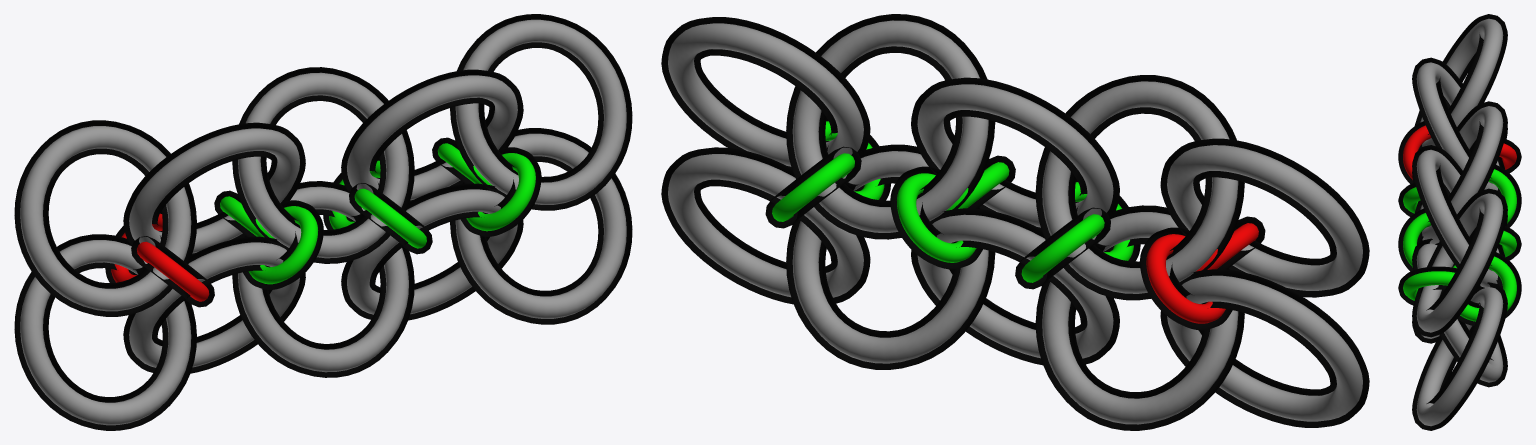
The model's file is magus_weave_step_06.glb.
3 views of the same model, side by side, from view 1: azimuth 30°, elevation 25°; view 2: azimuth 150°, elevation 25°; view 3: azimuth 270°, elevation 25° (orthographic). The views are drawn at different scales.
Parts seen in each view (by area): view 1: Torus.725, Torus.721, Torus.730, Torus.723, Torus.726, Torus.728, Torus.722, Torus.724, Torus.727, Torus.729, Torus.763, Torus.747 (+6 smaller); view 2: Torus.722, Torus.724, Torus.721, Torus.725, Torus.730, Torus.727, Torus.729, Torus.726, Torus.723, Torus.728, Torus.754, Torus.770 (+6 smaller); view 3: Torus.726, Torus.721, Torus.725, Torus.722, Torus.723, Torus.724, Torus.727, Torus.746, Torus.747, Torus.755, Torus.771, Torus.762 (+4 smaller).
Part boxes in pixels (bbox=[...]): Torus.725: bbox=[14, 120, 196, 316]; Torus.721: bbox=[450, 14, 632, 210]; Torus.730: bbox=[14, 234, 196, 430]; Torus.723: bbox=[232, 67, 414, 263]; Torus.726: bbox=[450, 128, 632, 324]; Torus.728: bbox=[232, 181, 414, 377]; Torus.722: bbox=[341, 69, 523, 201]; Torus.724: bbox=[123, 122, 305, 254]; Torus.727: bbox=[341, 183, 523, 320]; Torus.729: bbox=[123, 236, 305, 373]; Torus.763: bbox=[243, 200, 323, 289]; Torus.747: bbox=[460, 147, 541, 236]; Torus.722: bbox=[786, 14, 995, 239]; Torus.724: bbox=[1035, 75, 1244, 300]; Torus.721: bbox=[661, 17, 870, 167]; Torus.725: bbox=[1160, 138, 1369, 297]; Torus.730: bbox=[1160, 269, 1369, 427]; Torus.727: bbox=[786, 144, 995, 369]; Torus.729: bbox=[1035, 205, 1244, 430]; Torus.726: bbox=[661, 147, 870, 304]; Torus.723: bbox=[911, 77, 1119, 228]; Torus.728: bbox=[911, 208, 1119, 365]; Torus.754: bbox=[890, 166, 982, 269]; Torus.770: bbox=[1140, 227, 1232, 330]; Torus.726: bbox=[1412, 282, 1507, 430]; Torus.721: bbox=[1412, 188, 1507, 337]; Torus.725: bbox=[1414, 14, 1507, 146]; Torus.722: bbox=[1412, 145, 1505, 290]; Torus.723: bbox=[1415, 101, 1507, 244]; Torus.724: bbox=[1412, 57, 1505, 190]; Torus.727: bbox=[1412, 238, 1507, 387]; Torus.746: bbox=[1453, 252, 1521, 325]; Torus.747: bbox=[1398, 266, 1479, 305]; Torus.755: bbox=[1398, 208, 1430, 271]; Torus.771: bbox=[1398, 121, 1431, 183]; Torus.762: bbox=[1488, 165, 1521, 227].
Size of the model in its own units: 12.28 by 5.29 by 2.63.
